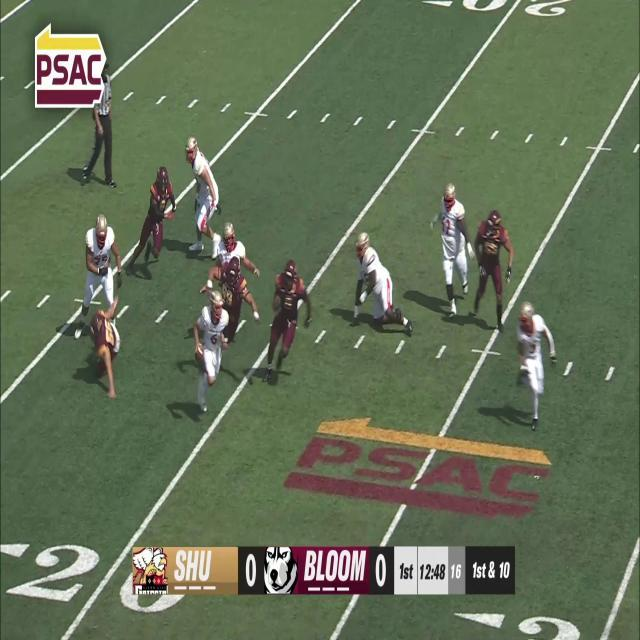football: (194, 341, 204, 364)
